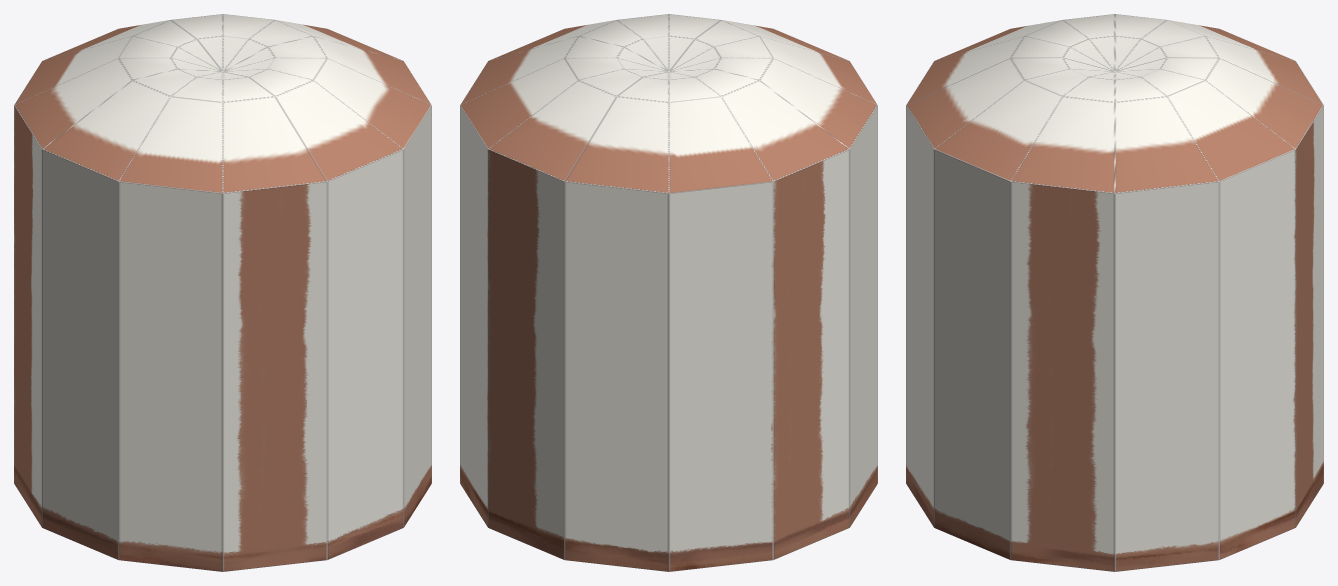
File: StageR.fbx
3 renders of one model, left to right at view 1: azimuth 30°, elevation 25°; view 2: azimuth 150°, elevation 25°; view 3: azimuth 270°, elevation 25°, orthographic.
Visible parts, largest first — view 1: pCylinder1; view 2: pCylinder1; view 3: pCylinder1.
Boxes of the visible parts, bbox=[...] form: pCylinder1: bbox=[14, 14, 431, 571]; pCylinder1: bbox=[460, 14, 877, 571]; pCylinder1: bbox=[906, 14, 1323, 571].
Bounding box in the file's own units: 1000 × 1125 × 1000.
